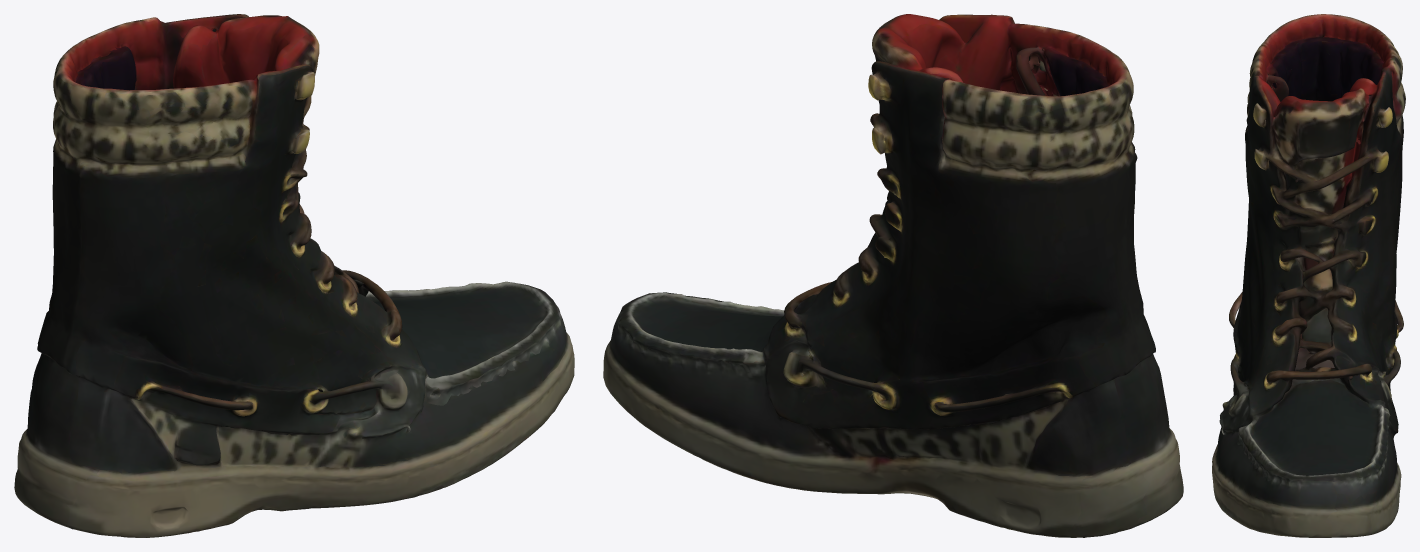
The model's file is Womens_Hikerfish_Boot_in_Black_Leopard_bVSNY1Le1sm.glb.
3 views of the same model, side by side, from view 1: azimuth 30°, elevation 25°; view 2: azimuth 150°, elevation 25°; view 3: azimuth 270°, elevation 25° (orthographic). The views are drawn at different scales.
Visible parts, largest first — view 1: geometry_0; view 2: geometry_0; view 3: geometry_0.
Boxes of the visible parts, x1,y1,x2,y2 form: geometry_0: (14, 14, 574, 537); geometry_0: (603, 14, 1183, 537); geometry_0: (1212, 14, 1405, 537).
Bounding box in the file's own units: 0.9998 × 0.7826 × 0.3776.
1 material, 1 textured.
